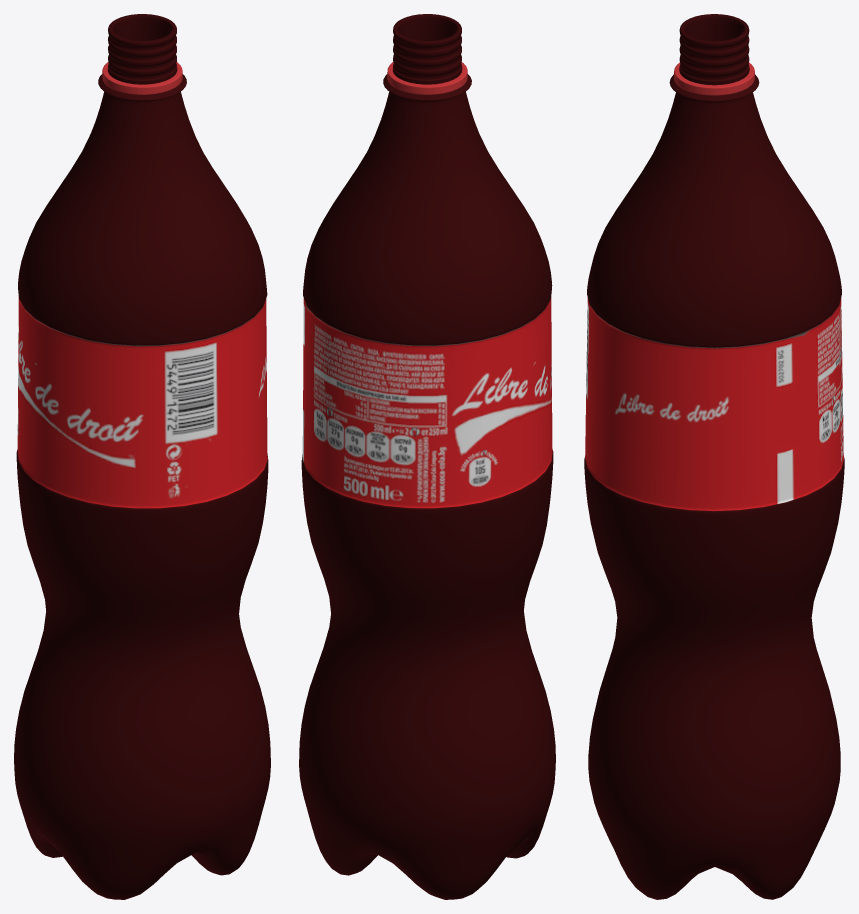
Rendered from bouteille3D.fbx.
3 renders of one model, left to right at view 1: azimuth 30°, elevation 25°; view 2: azimuth 150°, elevation 25°; view 3: azimuth 270°, elevation 25°, orthographic.
Parts seen in each view (by area): view 1: Cylinder001; view 2: Cylinder001; view 3: Cylinder001.
Part boxes in pixels (<box>): Cylinder001: <box>14,14,270,899</box>; Cylinder001: <box>299,14,555,899</box>; Cylinder001: <box>584,14,844,899</box>.
Size of the model in its own units: 14.45 by 51.14 by 14.34.
1 material, 1 textured.
